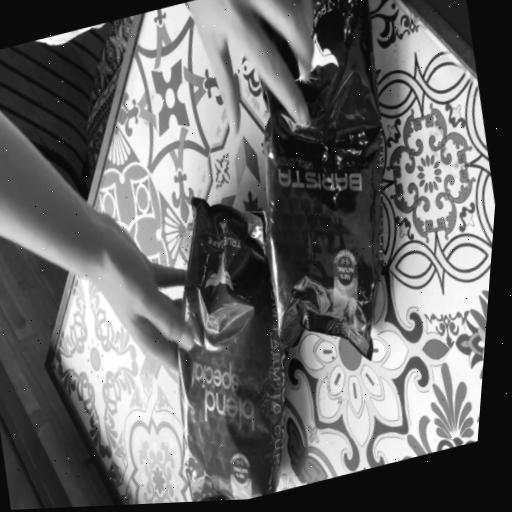cafe_hat: (260, 0, 384, 358)
cafe_xay: (178, 197, 284, 502)
